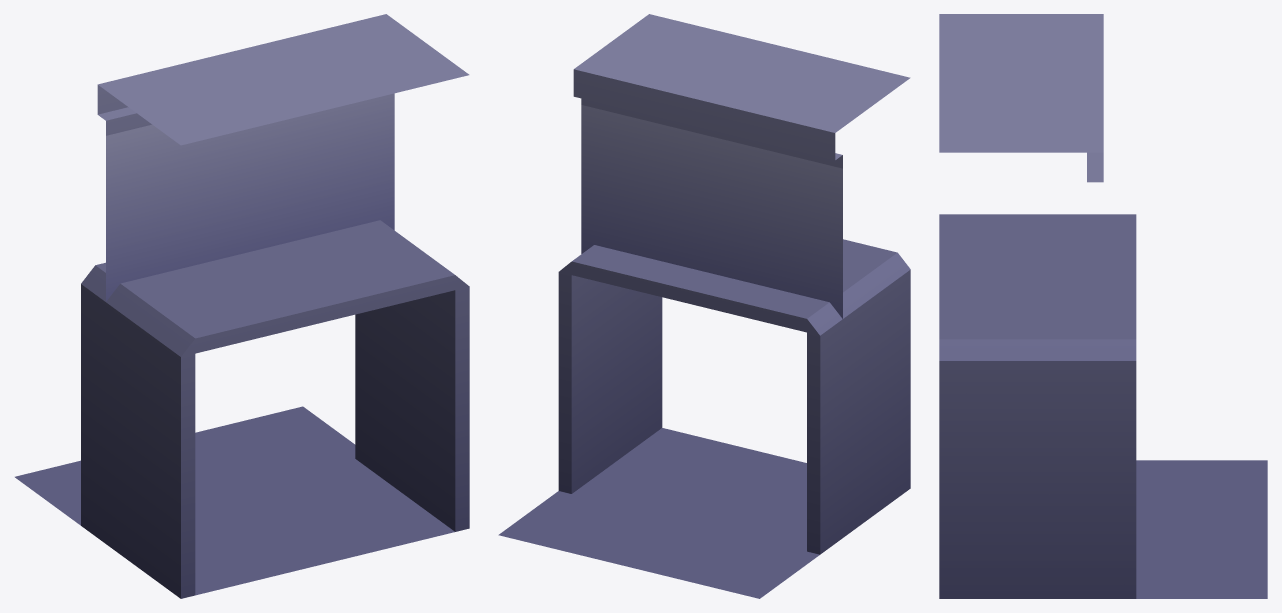
The model's file is structure-doorway-wide.glb.
The picture shows the model from 3 angles, left to right: view 1: azimuth 30°, elevation 25°; view 2: azimuth 150°, elevation 25°; view 3: azimuth 270°, elevation 25°; orthographic projection. The views are drawn at different scales.
Parts seen in each view (by area): view 1: structure-doorway-wide; view 2: structure-doorway-wide; view 3: structure-doorway-wide.
Boxes of the visible parts, bbox=[...] form: structure-doorway-wide: bbox=[15, 14, 469, 598]; structure-doorway-wide: bbox=[498, 14, 910, 598]; structure-doorway-wide: bbox=[939, 14, 1267, 598].
Bounding box in the file's own units: 2 × 3 × 2.
1 material, 1 textured.
